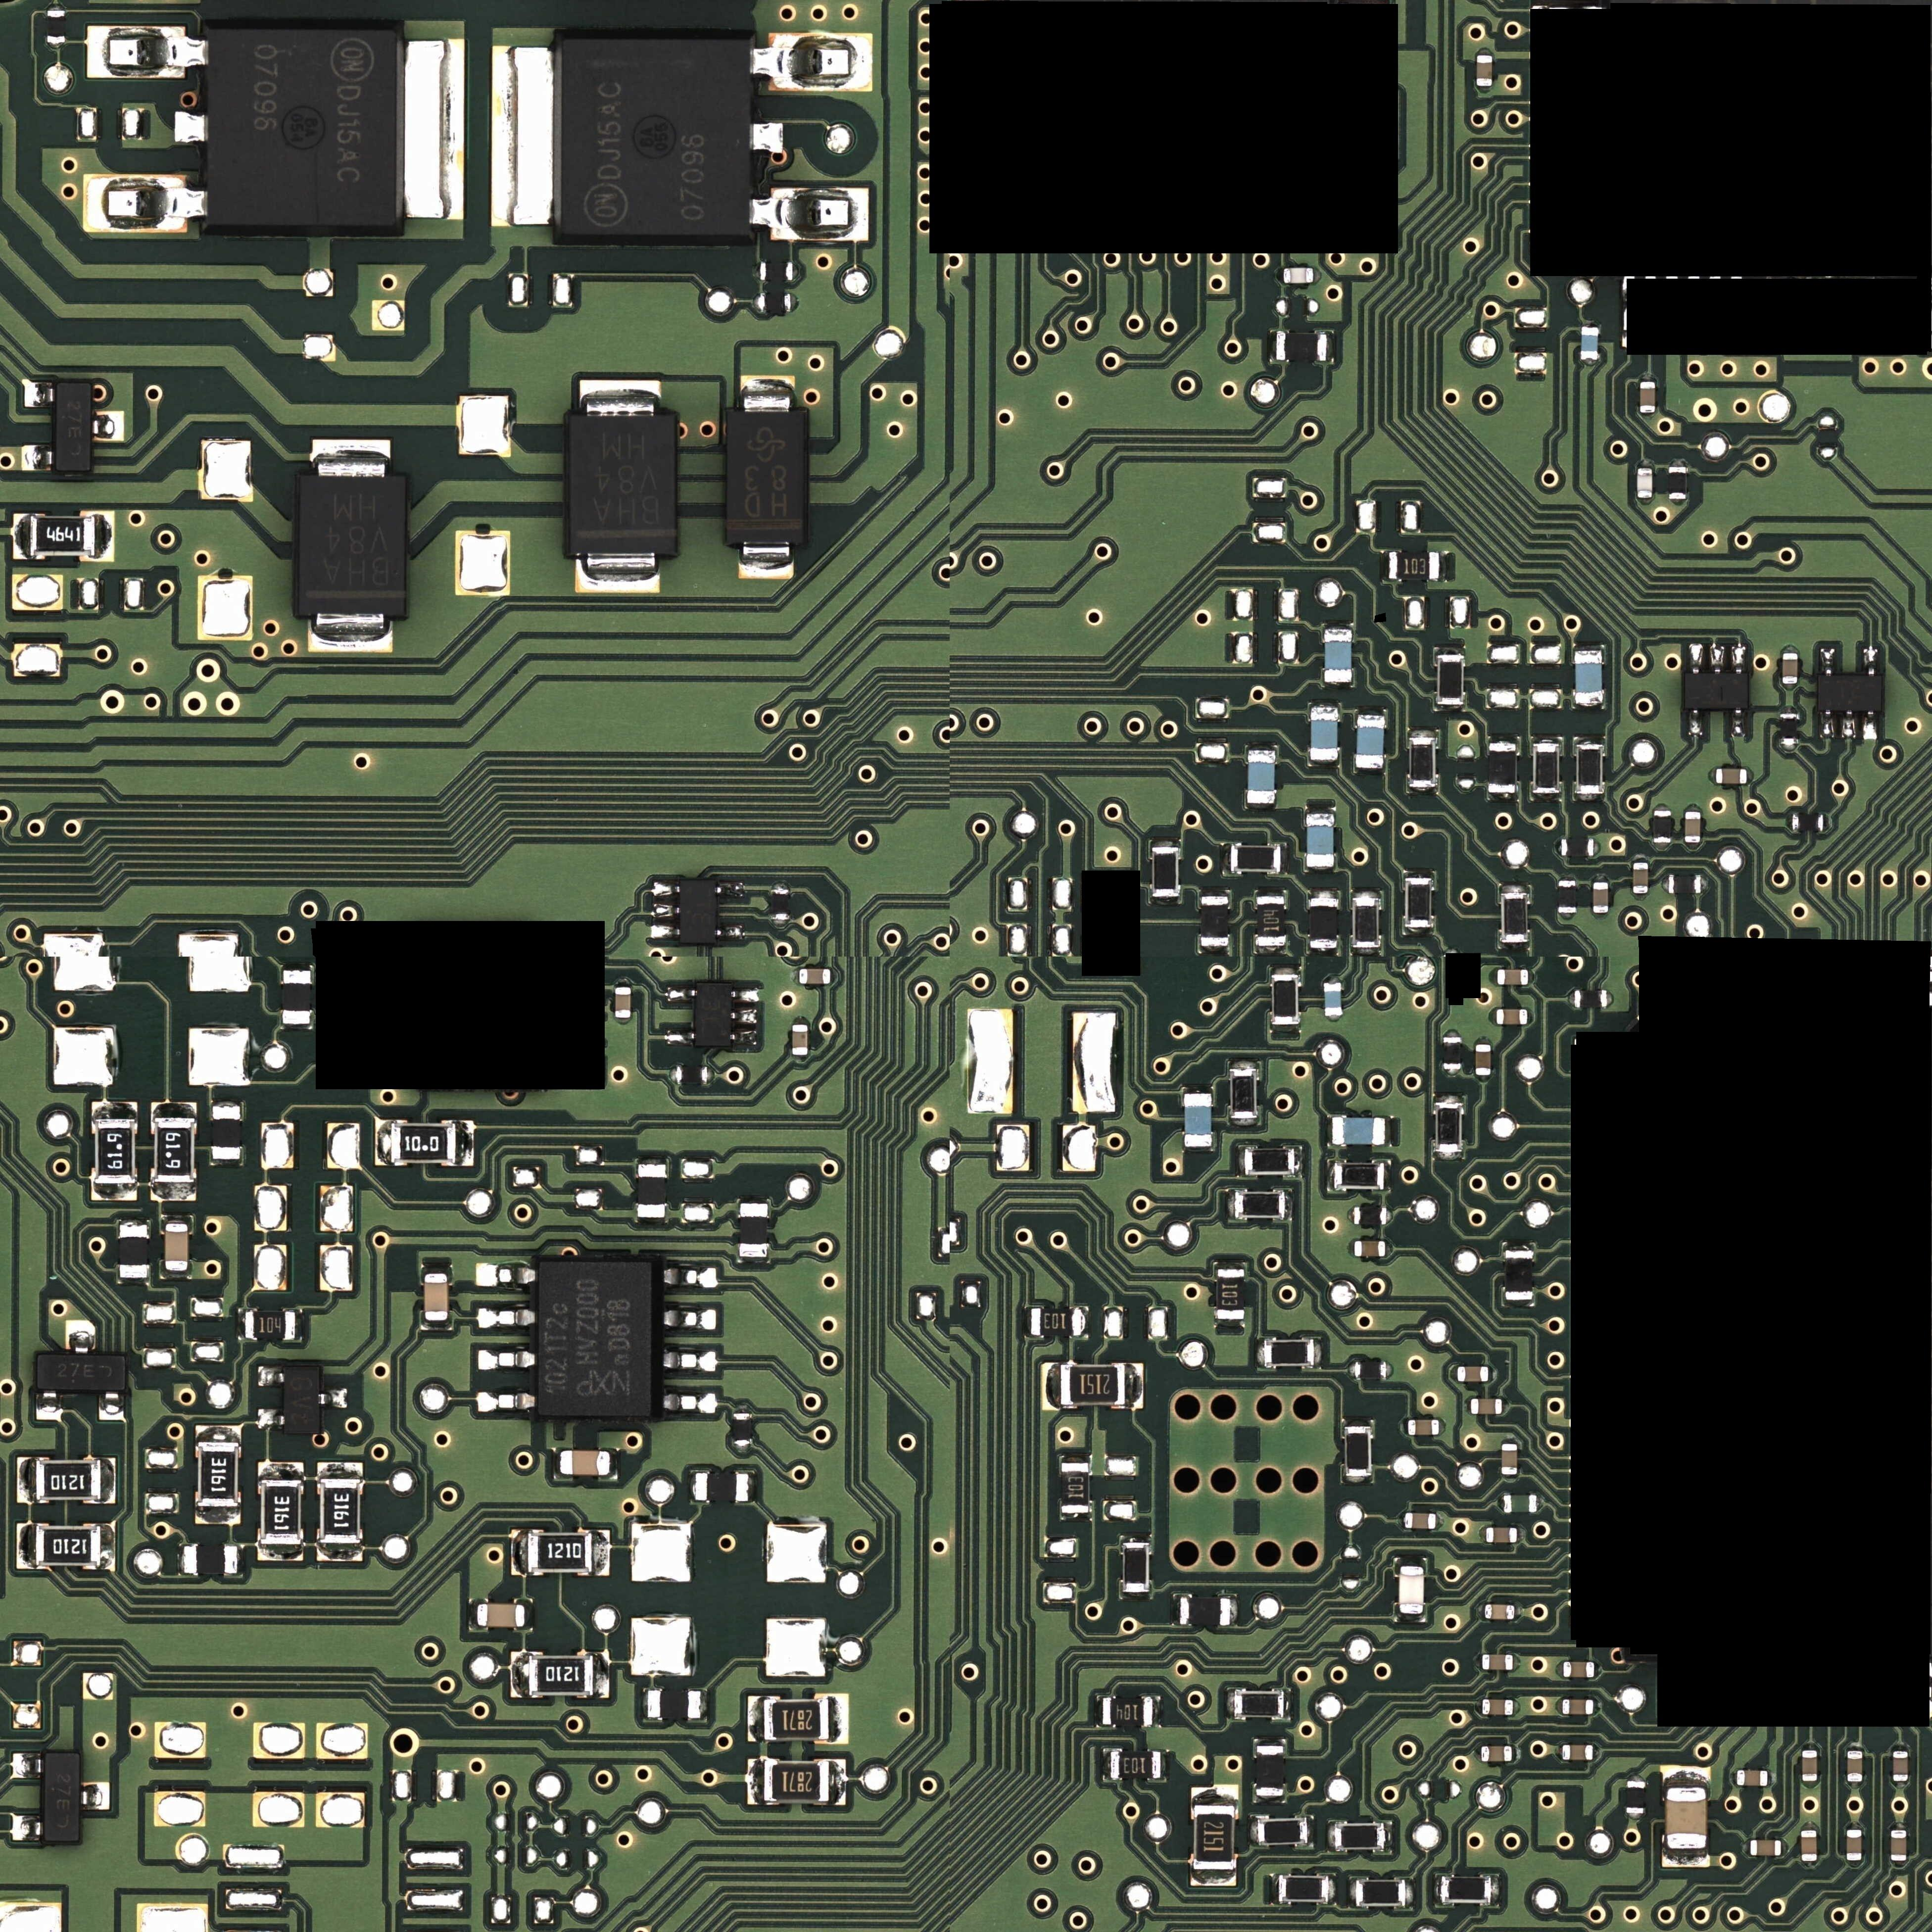Package: (562, 40, 750, 236), (209, 29, 395, 226), (539, 1261, 652, 1417), (300, 477, 405, 614), (569, 417, 675, 553), (727, 412, 804, 540), (37, 1354, 126, 1390), (45, 1753, 79, 1841), (57, 383, 91, 471), (764, 1761, 829, 1802), (764, 1699, 828, 1741), (36, 1460, 101, 1501), (1194, 1806, 1235, 1870), (30, 516, 95, 556), (529, 1655, 593, 1696), (391, 1123, 455, 1164), (1061, 1364, 1125, 1405), (197, 1443, 238, 1507), (528, 1533, 591, 1573), (36, 1527, 100, 1567), (95, 1120, 135, 1183), (154, 1118, 194, 1182), (261, 1481, 301, 1545), (320, 1479, 360, 1543), (1666, 1787, 1706, 1849), (679, 879, 717, 943), (695, 982, 731, 1046), (285, 1366, 319, 1432), (1685, 674, 1748, 708), (1818, 676, 1882, 710), (184, 1546, 237, 1574), (637, 1165, 666, 1217), (695, 1472, 748, 1501), (283, 970, 311, 1023), (119, 1225, 148, 1277), (648, 1690, 700, 1719), (739, 1204, 768, 1256), (1356, 715, 1384, 768), (213, 1107, 241, 1159), (1575, 651, 1602, 703), (1248, 751, 1275, 803), (1324, 629, 1352, 682), (1306, 814, 1334, 867), (1332, 1117, 1385, 1145), (1310, 708, 1338, 760), (1185, 1094, 1211, 1147), (1216, 1269, 1244, 1319), (1103, 1698, 1153, 1726), (245, 1311, 295, 1339), (1201, 896, 1228, 946), (1257, 896, 1285, 946), (1505, 1251, 1533, 1300), (1389, 552, 1439, 580), (1276, 333, 1326, 360), (1180, 1597, 1230, 1625), (1031, 1308, 1081, 1336), (1062, 1463, 1089, 1513), (1310, 898, 1337, 948), (1489, 743, 1516, 793), (1256, 1746, 1283, 1795), (1111, 1751, 1160, 1778), (1231, 846, 1281, 872), (1437, 655, 1463, 704), (1406, 877, 1432, 927), (1272, 974, 1298, 1024), (1235, 1691, 1284, 1717), (1577, 744, 1602, 794), (1501, 893, 1527, 942), (1279, 1876, 1328, 1902), (1235, 1192, 1285, 1218), (1264, 1340, 1314, 1366), (1335, 1824, 1384, 1849), (1153, 847, 1178, 896), (1245, 1149, 1294, 1174), (1442, 1877, 1491, 1903), (1436, 1103, 1461, 1152), (1356, 1880, 1405, 1906), (1353, 898, 1379, 947), (1410, 738, 1435, 787), (1335, 1163, 1384, 1189), (1345, 1427, 1370, 1476), (1258, 1819, 1307, 1844), (1123, 1543, 1149, 1592), (560, 1450, 610, 1475), (1534, 744, 1559, 793), (1231, 1069, 1256, 1118), (1399, 1566, 1424, 1613), (424, 1273, 448, 1320), (478, 1604, 525, 1627), (165, 1224, 188, 1270), (1653, 811, 1672, 843), (760, 263, 793, 281), (733, 1413, 751, 1446), (1668, 875, 1700, 893), (1354, 1207, 1386, 1225), (760, 293, 791, 312), (1504, 1495, 1537, 1512), (1561, 839, 1594, 857), (1627, 1781, 1645, 1813), (1581, 327, 1598, 360), (1324, 983, 1342, 1015), (1443, 1037, 1461, 1069), (1669, 467, 1687, 499), (1575, 990, 1607, 1008), (771, 889, 789, 920), (1558, 881, 1575, 913), (1781, 714, 1798, 745), (1355, 1361, 1386, 1379), (676, 1066, 707, 1083), (1792, 814, 1823, 831), (1563, 1661, 1594, 1677), (1801, 1831, 1817, 1861), (1405, 1513, 1436, 1529), (1750, 1840, 1781, 1856), (1354, 1241, 1385, 1256), (1457, 1366, 1489, 1382), (615, 987, 631, 1017), (1685, 812, 1700, 842), (1471, 1399, 1501, 1414), (1501, 1444, 1517, 1474), (1475, 1045, 1491, 1075), (1408, 1419, 1439, 1435), (800, 969, 830, 984), (1497, 969, 1528, 985), (1497, 1009, 1527, 1024), (1562, 1699, 1593, 1714), (1562, 1745, 1593, 1760), (1486, 1527, 1517, 1543), (1482, 1699, 1513, 1715), (1481, 1746, 1512, 1761), (1482, 1654, 1513, 1670), (1846, 1830, 1862, 1860), (1593, 882, 1608, 913), (1633, 863, 1648, 893), (1477, 55, 1492, 86), (1640, 382, 1655, 412), (1737, 1770, 1767, 1786), (1891, 1831, 1906, 1861), (792, 1025, 808, 1055), (1283, 268, 1313, 283), (1802, 1750, 1817, 1781), (1783, 653, 1797, 683), (1716, 769, 1746, 783), (1847, 1751, 1862, 1782), (1638, 469, 1652, 498), (1485, 1604, 1514, 1619), (1893, 1751, 1908, 1781)
Solder: (492, 45, 562, 226), (396, 39, 463, 219), (83, 174, 209, 233), (750, 33, 873, 93), (87, 26, 209, 78), (750, 188, 869, 241), (576, 553, 660, 593), (308, 614, 393, 652), (579, 380, 661, 417), (313, 439, 391, 477), (739, 540, 794, 579), (740, 375, 795, 412), (476, 1263, 535, 1287), (478, 1392, 535, 1412), (479, 1308, 535, 1329), (663, 1267, 717, 1288), (663, 1393, 716, 1414), (478, 1350, 535, 1370), (663, 1309, 716, 1330), (174, 111, 209, 143), (664, 1351, 716, 1372), (828, 1693, 849, 1745), (65, 1320, 96, 1354), (91, 411, 124, 441), (750, 123, 783, 153), (95, 511, 114, 562), (1663, 1767, 1710, 1787), (21, 445, 56, 471), (1662, 1848, 1710, 1867), (1042, 1362, 1060, 1411), (17, 1456, 36, 1503), (17, 1523, 35, 1569), (12, 1752, 45, 1779), (195, 1506, 241, 1525), (151, 1183, 196, 1201), (456, 1120, 474, 1166), (592, 1530, 610, 1576), (511, 1651, 529, 1698), (1125, 1362, 1143, 1409), (1191, 1787, 1238, 1804), (12, 1815, 44, 1840), (80, 1782, 109, 1810), (13, 513, 30, 560), (92, 1102, 138, 1119), (317, 1544, 363, 1561), (24, 382, 56, 407), (829, 1758, 846, 1805), (258, 1462, 303, 1479), (91, 1184, 137, 1201), (195, 1425, 241, 1442), (747, 1695, 764, 1742), (511, 1529, 528, 1576), (1190, 1870, 1237, 1886), (98, 1391, 124, 1420), (747, 1758, 763, 1805), (258, 1545, 303, 1561), (375, 1119, 391, 1166), (37, 1391, 61, 1420), (317, 1462, 363, 1478), (593, 1652, 609, 1698), (100, 1523, 115, 1570), (101, 1458, 116, 1503), (151, 1103, 197, 1117), (319, 1388, 347, 1408), (258, 1366, 285, 1387), (258, 1408, 284, 1429), (1841, 710, 1856, 739), (1689, 643, 1703, 673), (1863, 711, 1878, 739), (1731, 709, 1745, 736), (1820, 648, 1835, 676), (1820, 710, 1835, 738), (1710, 645, 1725, 673), (1688, 709, 1703, 736), (1732, 646, 1746, 674), (1863, 649, 1878, 676), (717, 926, 746, 939), (717, 883, 746, 896), (651, 925, 679, 938), (652, 881, 679, 895), (669, 987, 695, 1001), (669, 1029, 694, 1044), (525, 1598, 535, 1633), (651, 904, 679, 917), (732, 987, 757, 1001), (732, 1009, 757, 1022), (1285, 1188, 1296, 1221), (731, 1030, 756, 1044), (1225, 1188, 1235, 1222), (468, 1598, 478, 1633), (1252, 1796, 1287, 1805), (1295, 1145, 1305, 1176), (420, 1320, 452, 1330), (1235, 1146, 1245, 1178), (610, 1448, 619, 1481), (1313, 1336, 1323, 1369), (163, 1213, 194, 1223), (1324, 1161, 1334, 1192), (1170, 1593, 1179, 1625), (700, 1688, 708, 1723), (1307, 889, 1339, 898), (1384, 1159, 1393, 1191), (1254, 1736, 1286, 1745), (1225, 1688, 1234, 1721), (1283, 1689, 1292, 1722), (1101, 1747, 1110, 1781), (1491, 1874, 1500, 1907), (281, 961, 312, 970), (1249, 1815, 1258, 1848), (1153, 1695, 1161, 1728), (1231, 1594, 1240, 1627), (210, 1160, 242, 1169), (1326, 1820, 1335, 1852), (1405, 1878, 1414, 1910), (1327, 1874, 1336, 1906), (1396, 1556, 1426, 1566), (161, 1270, 192, 1279), (1351, 947, 1382, 956), (1434, 1094, 1465, 1103), (552, 1447, 561, 1480), (1270, 1873, 1279, 1905), (1384, 1821, 1393, 1853), (1228, 1060, 1259, 1068), (1433, 1152, 1463, 1160), (1499, 884, 1530, 893), (1349, 1877, 1357, 1909), (1160, 1749, 1169, 1782), (281, 1024, 313, 1032), (1198, 947, 1230, 956), (1255, 946, 1286, 954), (641, 1687, 648, 1723), (1504, 1241, 1534, 1250), (1574, 737, 1605, 745), (1573, 793, 1604, 802), (736, 1256, 771, 1264), (1256, 1338, 1264, 1370), (238, 1545, 246, 1576), (1439, 551, 1448, 581), (1256, 888, 1286, 897), (1403, 927, 1434, 935), (1214, 1319, 1245, 1328), (1270, 1025, 1301, 1034), (1152, 896, 1180, 905), (1433, 1874, 1441, 1906), (1095, 1695, 1103, 1727), (422, 1264, 452, 1273), (119, 1216, 149, 1225), (1380, 550, 1388, 580), (1343, 1418, 1373, 1427), (1215, 1260, 1245, 1269), (1307, 1816, 1315, 1847), (1404, 870, 1434, 878), (1306, 949, 1340, 956), (1183, 1084, 1212, 1093), (1396, 1614, 1425, 1622), (1532, 736, 1562, 745), (1488, 735, 1518, 744), (211, 1097, 242, 1105), (1081, 1307, 1089, 1338), (1498, 942, 1530, 950), (1271, 966, 1300, 974), (118, 1278, 148, 1286), (1200, 888, 1230, 896), (1324, 1116, 1333, 1145), (1062, 1454, 1091, 1462), (1435, 647, 1465, 655), (1531, 793, 1561, 801), (1504, 1302, 1534, 1309), (176, 1544, 184, 1576), (1062, 1512, 1090, 1521), (1151, 839, 1180, 847), (1023, 1306, 1031, 1338), (1343, 1476, 1372, 1484), (1184, 1148, 1213, 1156), (1229, 1118, 1258, 1126), (1488, 793, 1517, 801), (749, 1471, 756, 1504), (1410, 729, 1437, 738), (1122, 1534, 1150, 1543), (738, 1196, 769, 1203), (1352, 890, 1381, 898), (636, 1157, 669, 1164), (1122, 1592, 1149, 1600), (296, 1309, 303, 1342), (636, 1217, 668, 1224), (1327, 330, 1334, 362), (1435, 704, 1464, 712), (1269, 329, 1276, 362), (238, 1309, 245, 1340), (1280, 845, 1287, 872), (1574, 644, 1603, 651), (1385, 1115, 1392, 1147), (689, 1470, 694, 1504), (1357, 709, 1384, 716), (1225, 844, 1231, 874), (1488, 1007, 1497, 1025), (1409, 786, 1436, 793), (1449, 1363, 1457, 1385), (1517, 1525, 1526, 1544), (1473, 1036, 1493, 1044), (1324, 624, 1352, 629), (1574, 704, 1604, 710), (1400, 1418, 1408, 1436), (1324, 682, 1351, 688), (791, 1016, 809, 1025), (1311, 760, 1338, 766), (1357, 768, 1384, 773), (1475, 47, 1494, 55), (1489, 967, 1497, 986), (1527, 1007, 1536, 1026), (1801, 1821, 1818, 1831), (1747, 766, 1755, 786), (1478, 1526, 1487, 1543), (614, 979, 633, 987), (1311, 702, 1339, 707), (1682, 805, 1703, 812), (790, 967, 799, 984), (1438, 1418, 1447, 1436), (1436, 1512, 1445, 1530), (1567, 990, 1575, 1008), (1248, 745, 1275, 750), (1307, 808, 1334, 814), (1248, 803, 1275, 808), (770, 920, 790, 928), (1537, 1493, 1544, 1513), (1347, 1239, 1355, 1257), (1462, 1397, 1470, 1415), (1652, 804, 1673, 811), (732, 1405, 752, 1412), (1386, 1239, 1393, 1258), (1501, 1435, 1518, 1443), (1512, 1745, 1520, 1762), (1890, 1821, 1907, 1830), (1515, 1603, 1523, 1621), (752, 294, 760, 312), (793, 263, 801, 281), (1323, 975, 1344, 982), (1323, 1015, 1344, 1022), (1778, 706, 1798, 713), (1652, 844, 1673, 851), (1556, 874, 1577, 881), (1682, 844, 1704, 850), (1497, 1494, 1504, 1512), (1742, 1839, 1750, 1856), (1847, 1742, 1864, 1751), (1847, 1782, 1863, 1790), (1474, 1654, 1482, 1670), (1443, 1029, 1462, 1036), (1824, 812, 1831, 832), (1780, 745, 1799, 752), (1489, 1365, 1497, 1383), (1590, 875, 1611, 882), (1397, 1512, 1404, 1531), (1660, 874, 1668, 893), (1701, 874, 1709, 893), (1631, 894, 1649, 901), (1502, 1398, 1510, 1416), (1591, 914, 1610, 920), (831, 967, 839, 983), (707, 1066, 715, 1083), (669, 1066, 676, 1083), (1473, 1745, 1481, 1762), (1781, 1839, 1789, 1855), (1555, 1661, 1564, 1677), (1802, 1742, 1818, 1750), (1846, 1821, 1862, 1829), (1892, 1782, 1908, 1790), (792, 1055, 810, 1063), (1708, 766, 1716, 784), (1606, 990, 1614, 1008), (752, 262, 760, 280), (791, 294, 799, 312), (1668, 460, 1688, 467), (1668, 499, 1688, 506), (1386, 1206, 1393, 1225), (1785, 813, 1791, 831), (1475, 1699, 1483, 1715), (1767, 1771, 1776, 1786), (1477, 1603, 1485, 1620), (1557, 913, 1577, 919), (733, 1446, 752, 1452), (1347, 1206, 1354, 1224), (1632, 856, 1650, 863), (1512, 1699, 1520, 1715), (1802, 1781, 1818, 1789), (1892, 1743, 1908, 1751), (1513, 1654, 1521, 1670), (1595, 1662, 1603, 1678), (1528, 968, 1536, 985), (1593, 1699, 1601, 1714), (1802, 1861, 1819, 1869), (1313, 268, 1321, 283), (1594, 1745, 1601, 1760), (1554, 1744, 1562, 1760), (771, 882, 790, 888), (1443, 1069, 1462, 1076), (1636, 498, 1654, 504), (1386, 1362, 1393, 1379), (1348, 1361, 1354, 1379), (1627, 1774, 1645, 1781), (1555, 1698, 1563, 1714), (1846, 1860, 1862, 1868), (1891, 1861, 1907, 1868), (1476, 86, 1493, 93), (1580, 360, 1599, 366), (1635, 462, 1654, 468), (1638, 375, 1657, 381), (1475, 1076, 1493, 1082), (1627, 1814, 1644, 1821), (1730, 1770, 1737, 1786), (1276, 268, 1283, 283), (613, 1018, 631, 1024), (1307, 867, 1334, 870), (1580, 321, 1599, 327), (1782, 684, 1798, 690), (1501, 1475, 1518, 1481), (1639, 413, 1657, 419), (1556, 839, 1562, 856), (1594, 840, 1600, 855), (1782, 647, 1799, 653)
